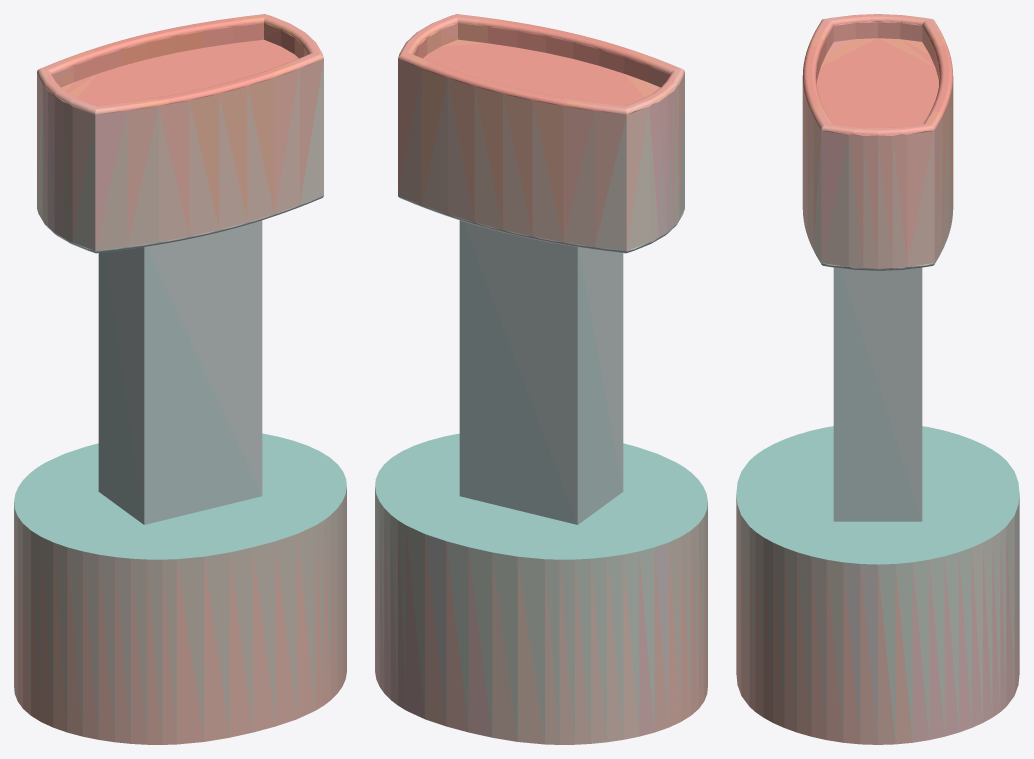
File: UnitreeZ1Link6.dae
The picture shows the model from 3 angles, left to right: view 1: azimuth 30°, elevation 25°; view 2: azimuth 150°, elevation 25°; view 3: azimuth 270°, elevation 25°; orthographic projection. The views are drawn at different scales.
Parts seen in each view (by area): view 1: UnitreeZ1Link6; view 2: UnitreeZ1Link6; view 3: UnitreeZ1Link6.
Boxes of the visible parts, x1,y1,x2,y2 form: UnitreeZ1Link6: (14, 14, 346, 744); UnitreeZ1Link6: (375, 14, 707, 744); UnitreeZ1Link6: (736, 14, 1019, 744).
Size of the model in its own units: 0.076 by 0.064 by 0.15.
